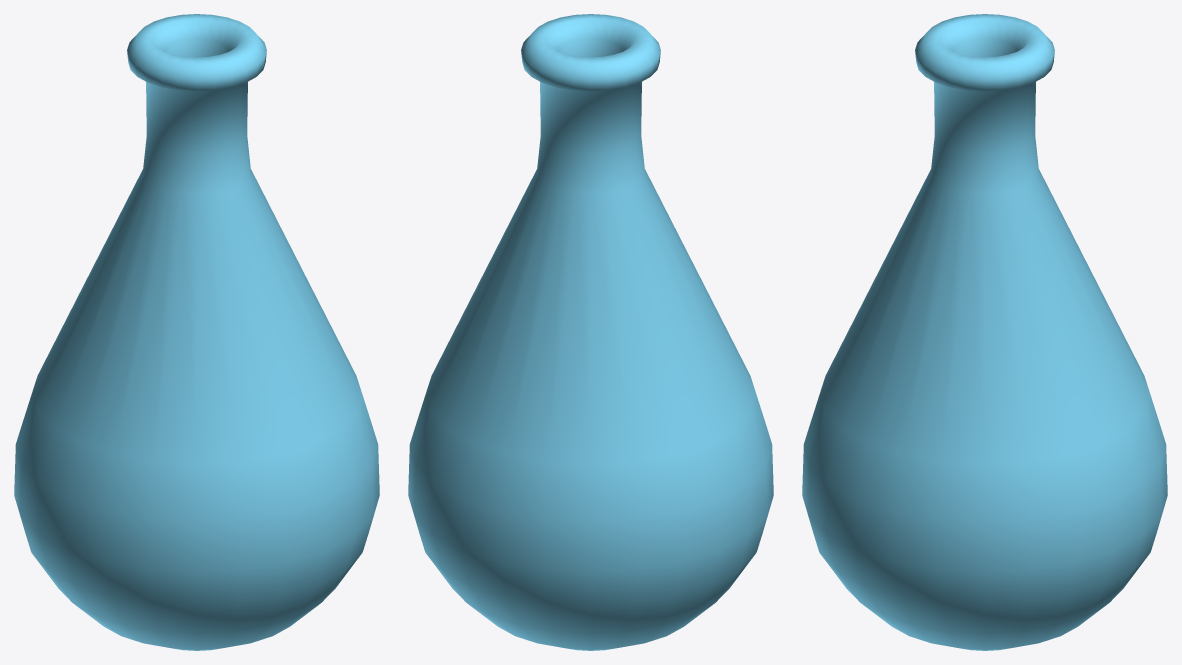
File: Flask, Kjeldahl, Short Neck.fbx
The picture shows the model from 3 angles, left to right: view 1: azimuth 30°, elevation 25°; view 2: azimuth 150°, elevation 25°; view 3: azimuth 270°, elevation 25°; orthographic projection.
Parts seen in each view (by area): view 1: Flask, Kjeldahl, Short Neck_LOD0; view 2: Flask, Kjeldahl, Short Neck_LOD0; view 3: Flask, Kjeldahl, Short Neck_LOD0.
Part boxes in pixels (<box>): Flask, Kjeldahl, Short Neck_LOD0: <box>14,14,379,650</box>; Flask, Kjeldahl, Short Neck_LOD0: <box>408,14,773,650</box>; Flask, Kjeldahl, Short Neck_LOD0: <box>802,14,1167,650</box>.
Size of what is drawn, in the model's own units: 0.5726 by 1.04 by 0.5726.
